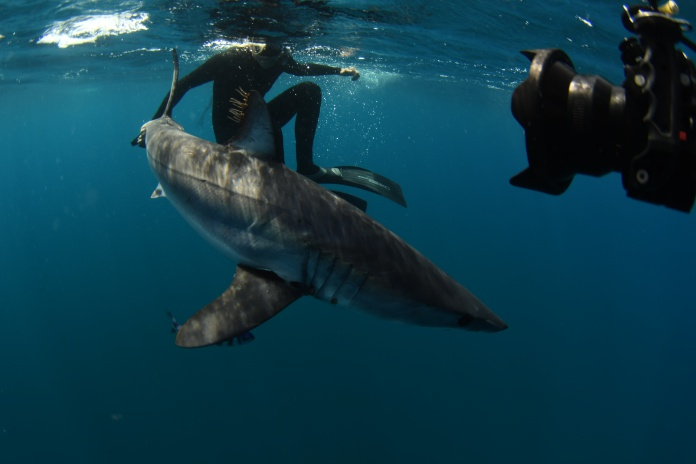Mako: (112, 43, 528, 356)
